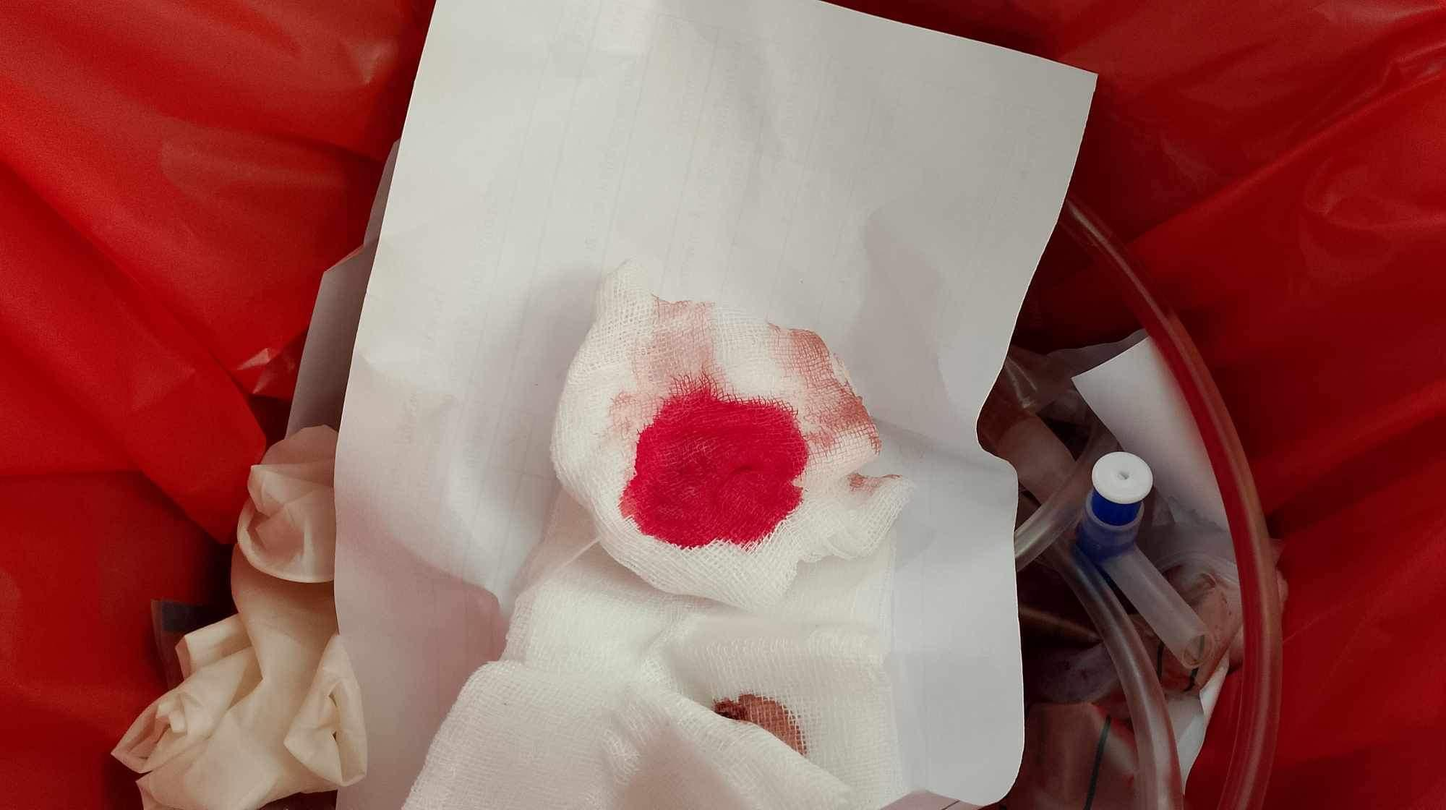General: (974, 188, 1288, 806)
Infectious: (547, 257, 914, 616), (109, 422, 367, 808)
Pathological: (321, 3, 1100, 806)
Sharps: (1072, 449, 1215, 678)
